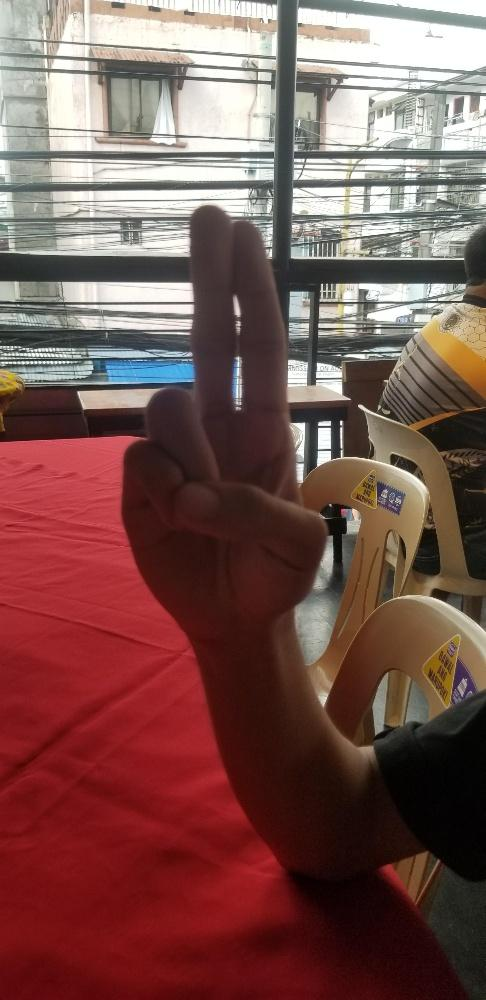u: (112, 200, 334, 644)
